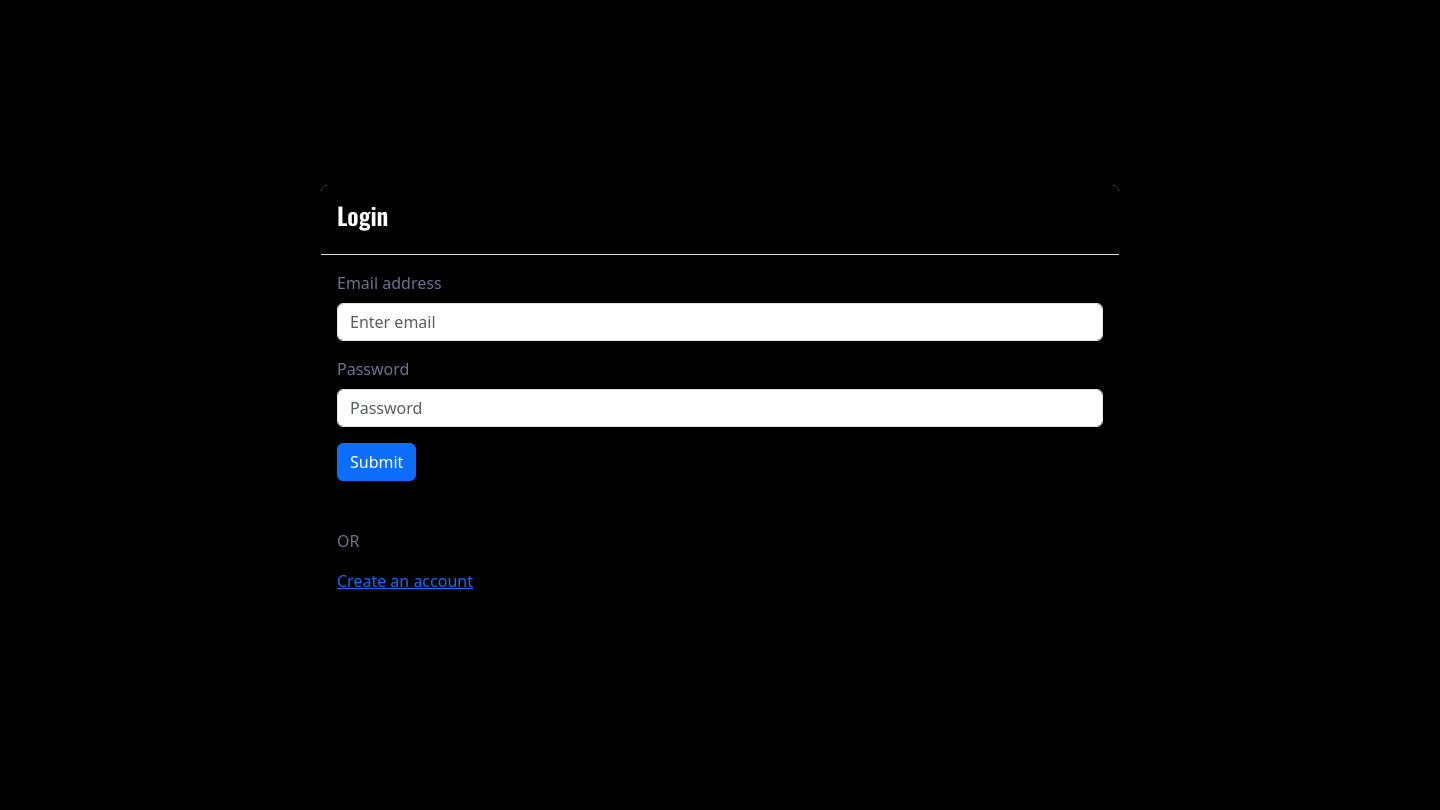
Test: SignIn component › shows validation error message when password is empty
Type "test@example.com" into the field labelled "Email address" at {"x": 720, "y": 322}, box [337,303,1103,341]
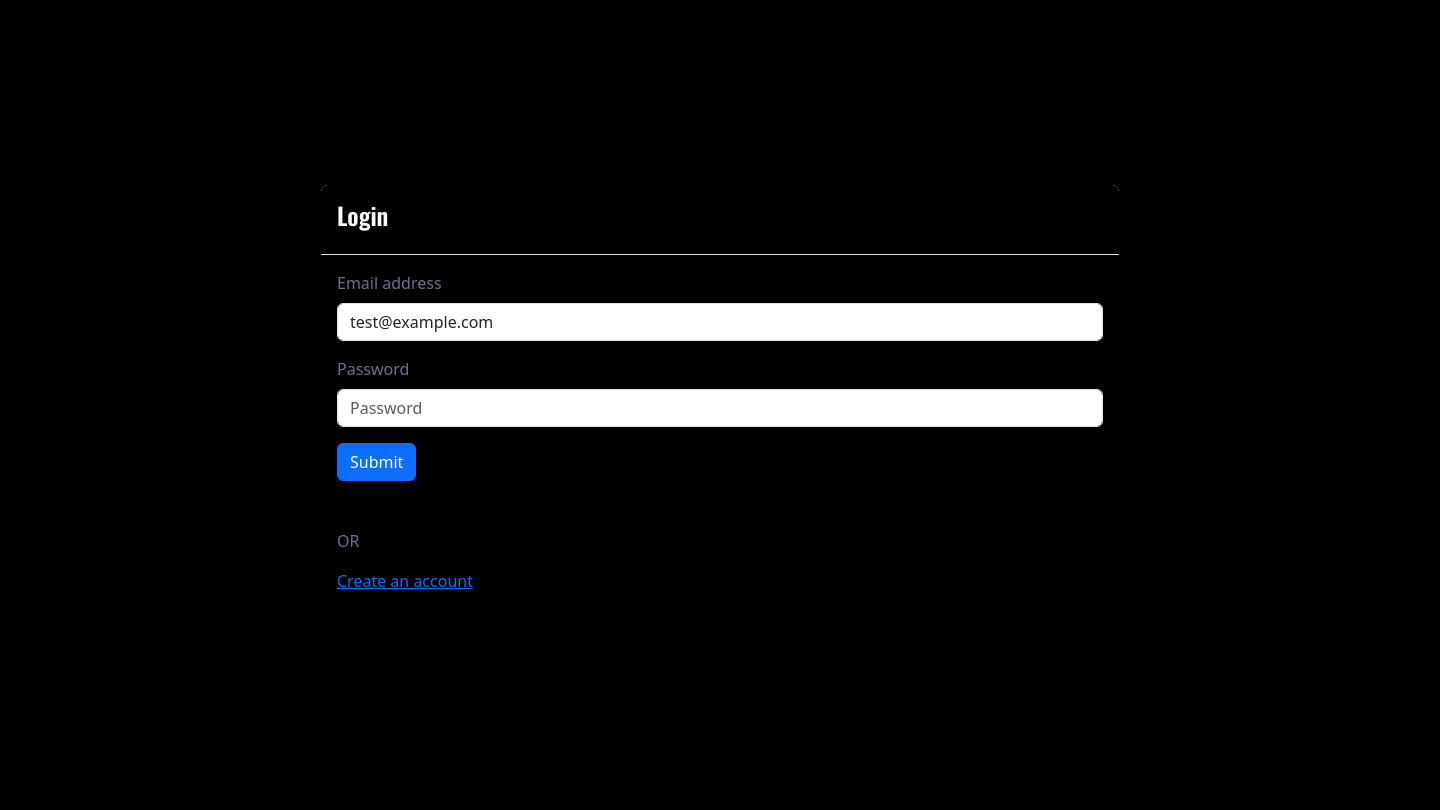
Click the button "Submit" at {"x": 377, "y": 462}, box [337,443,416,481]
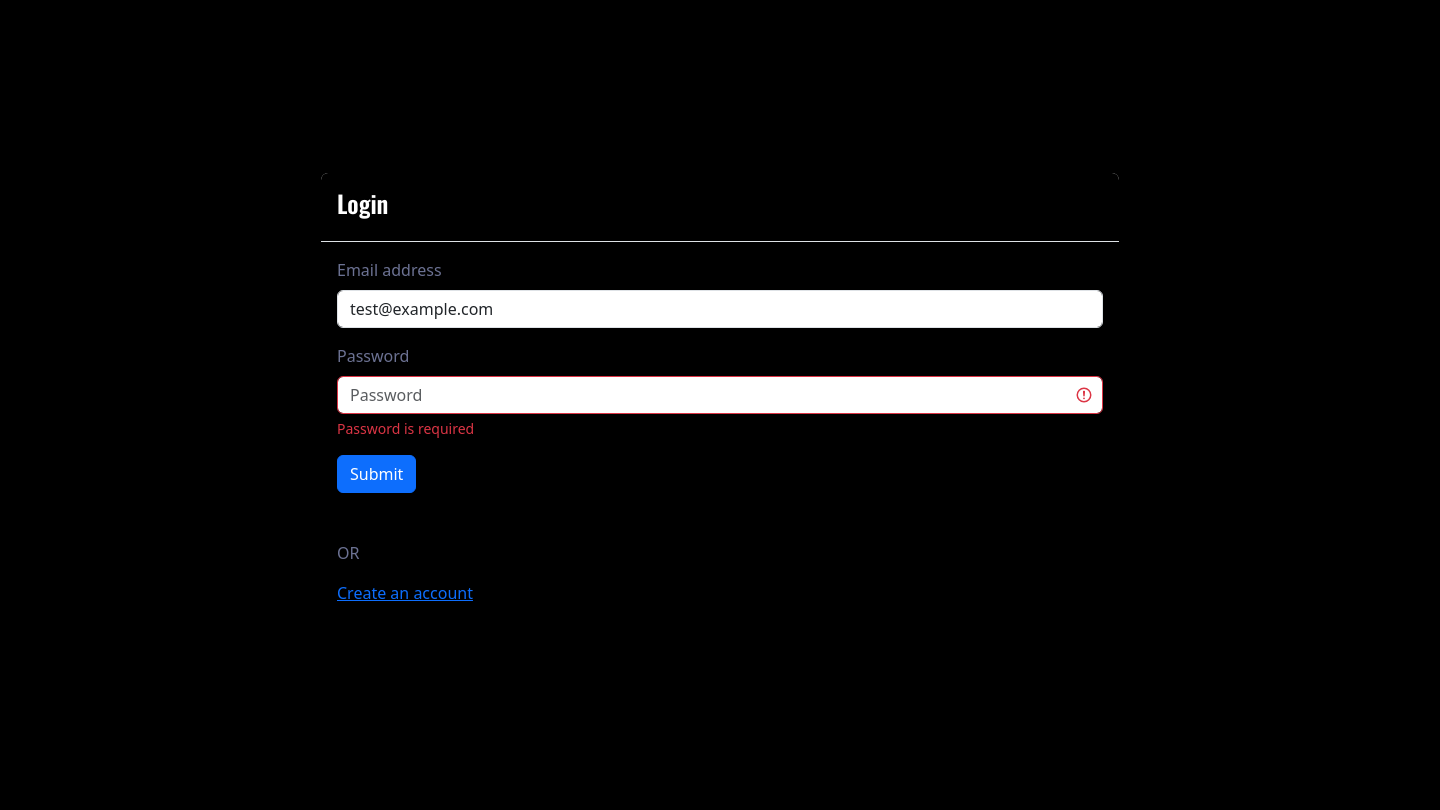
Check: the text "Password is required" is shown, box [337,419,474,438]
